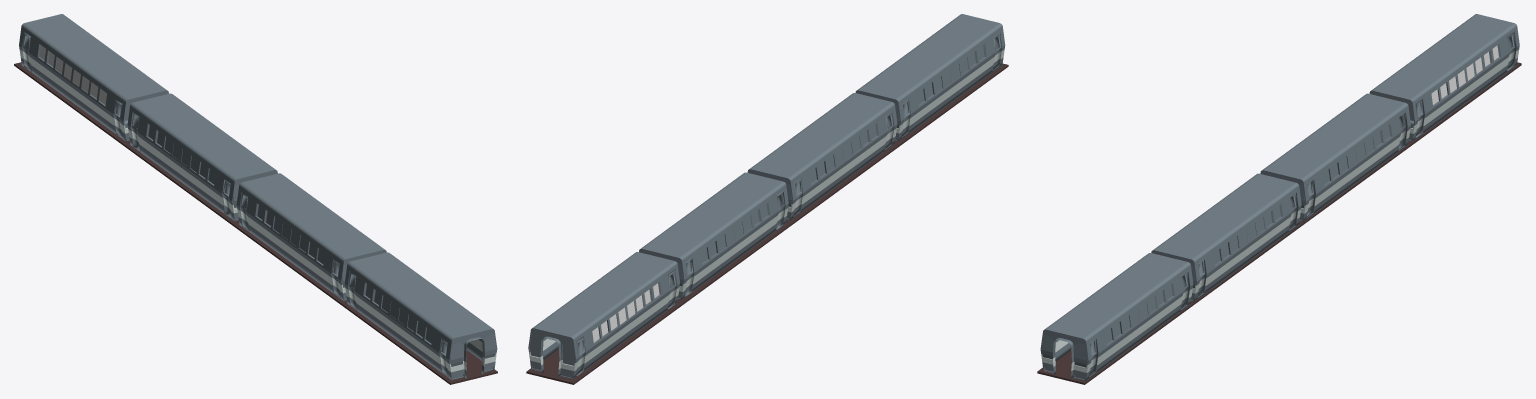
Rendered from Train substance.fbx.
3 renders of one model, left to right at view 1: azimuth 30°, elevation 25°; view 2: azimuth 150°, elevation 25°; view 3: azimuth 330°, elevation 25°, orthographic.
Visible parts, largest first — view 1: Cube.029; view 2: Cube.029; view 3: Cube.029.
Part boxes in pixels (<box>): Cube.029: <box>14,14,497,384</box>; Cube.029: <box>526,14,1008,384</box>; Cube.029: <box>1037,14,1521,384</box>.
Size of the model in its own units: 430 by 365 by 6595.
